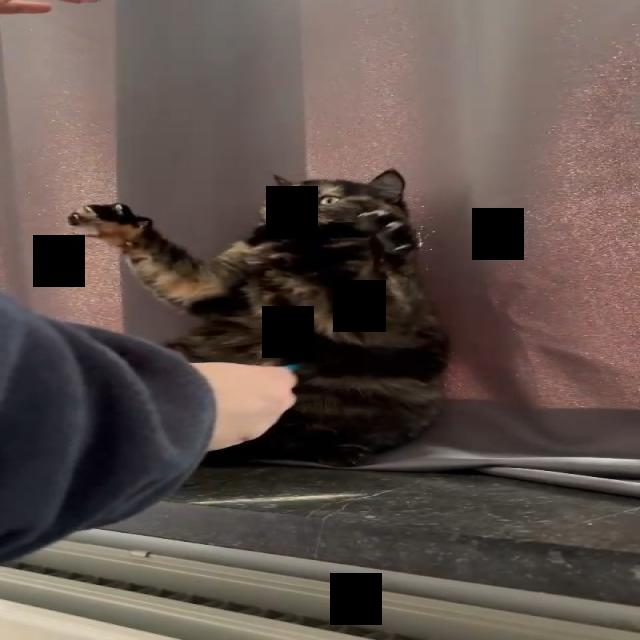authorized: (65, 167, 452, 468)
